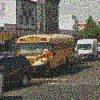buses: (15, 36, 77, 74)
